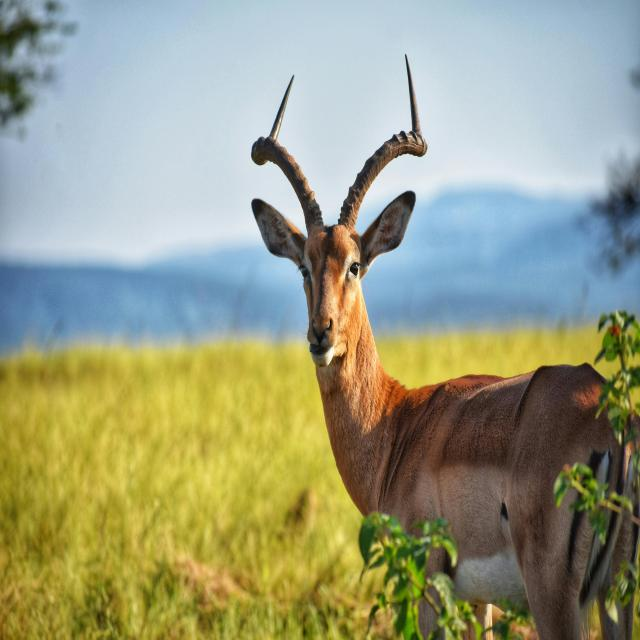Antelope: (253, 62, 637, 640)
